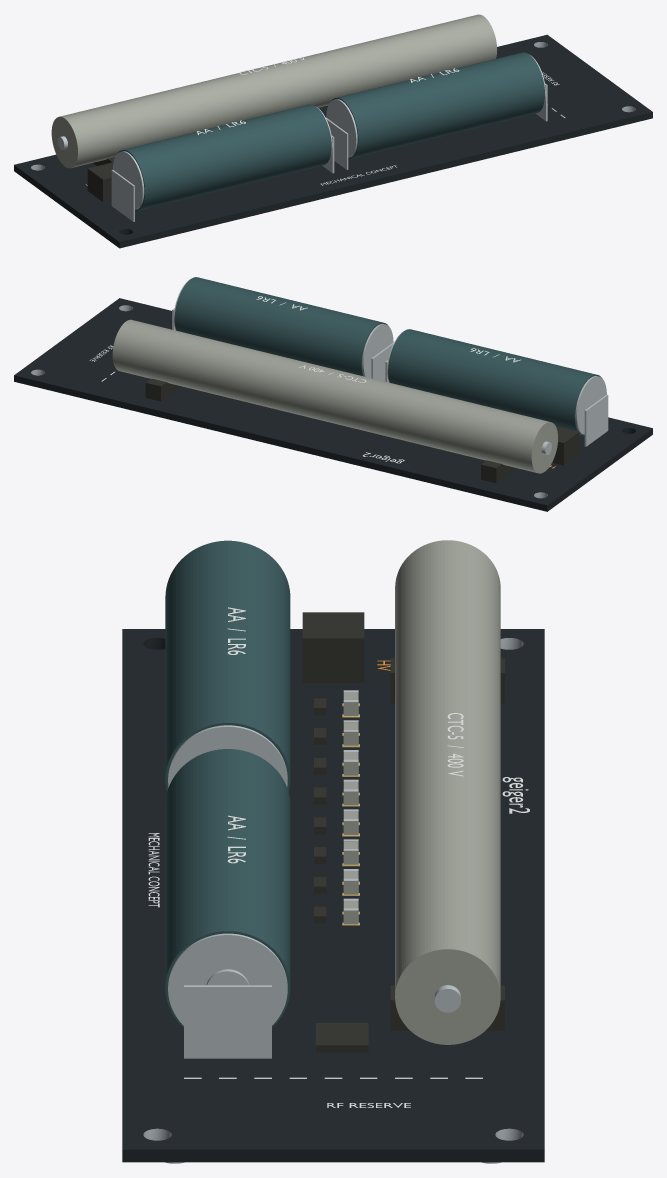
The model's file is geiger2-concept.glb.
3 views of the same model, one above another, from view 1: azimuth 30°, elevation 25°; view 2: azimuth 150°, elevation 25°; view 3: azimuth 270°, elevation 25° (orthographic). The views are drawn at different scales.
Visible parts, largest first — view 1: Concept board envelope 140 x 48 x 1.6 mm, CTC-5 approximate body, AA 2 sleeve, AA 1 sleeve, Contact approximate leaf, AA steel end.002, AA steel end, Inductor allocation, Contact approximate leaf.002; view 2: Concept board envelope 140 x 48 x 1.6 mm, CTC-5 approximate body, AA 1 sleeve, AA 2 sleeve, Contact approximate leaf, AA steel end, AA steel end.002, Inductor allocation, Provisional tube support.001, Provisional tube support, Contact approximate leaf.002; view 3: Concept board envelope 140 x 48 x 1.6 mm, CTC-5 approximate body, AA 2 sleeve, AA 1 sleeve, Contact approximate leaf.003, AA steel end.003, Inductor allocation, AA steel end.001, NRF52832-QFAA-C77540.
Part boxes in pixels (x1,y1,x2,y2): Concept board envelope 140 x 48 x 1.6 mm: (14, 34, 652, 248); CTC-5 approximate body: (51, 14, 497, 168); AA 2 sleeve: (331, 52, 544, 158); AA 1 sleeve: (117, 104, 331, 210); Contact approximate leaf: (111, 170, 134, 221); AA steel end.002: (326, 99, 357, 157); AA steel end: (113, 151, 144, 209); Inductor allocation: (87, 162, 113, 201); Contact approximate leaf.002: (326, 117, 348, 169); Concept board envelope 140 x 48 x 1.6 mm: (14, 298, 652, 511); CTC-5 approximate body: (112, 319, 557, 473); AA 1 sleeve: (388, 329, 602, 435); AA 2 sleeve: (174, 277, 388, 376); Contact approximate leaf: (584, 394, 608, 446); AA steel end: (575, 376, 606, 434); AA steel end.002: (362, 324, 393, 377); Inductor allocation: (552, 426, 579, 465); Provisional tube support.001: (145, 378, 181, 401); Provisional tube support: (481, 460, 516, 483); Contact approximate leaf.002: (371, 342, 393, 381); Concept board envelope 140 x 48 x 1.6 mm: (122, 629, 544, 1162); CTC-5 approximate body: (395, 540, 500, 1044); AA 2 sleeve: (165, 749, 290, 1027); AA 1 sleeve: (165, 540, 290, 791); Contact approximate leaf.003: (184, 985, 271, 1058); AA steel end.003: (168, 933, 287, 1025); Inductor allocation: (302, 612, 364, 682); AA steel end.001: (168, 725, 287, 787); NRF52832-QFAA-C77540: (315, 1023, 368, 1052).
Bounding box in the file's own units: 140 × 19.15 × 48.
